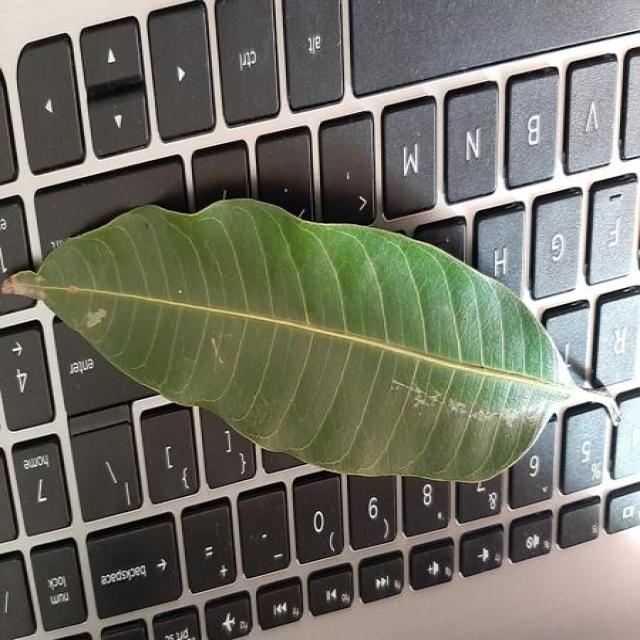mango: (12, 200, 577, 482)
sooty mould: (5, 199, 582, 482)
